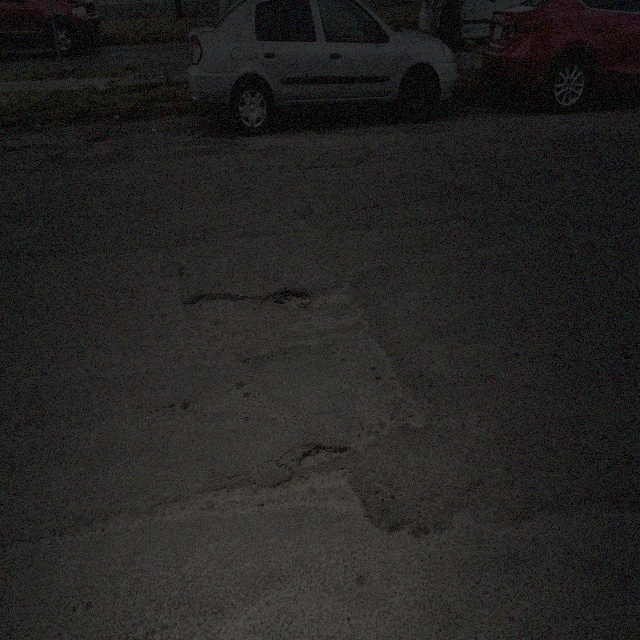pothole: (277, 471, 368, 522), (297, 442, 353, 473), (272, 286, 310, 310)
